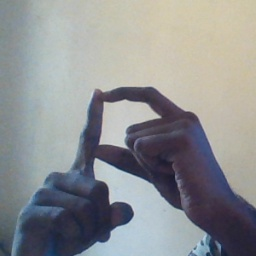D: (60, 75, 195, 203)
